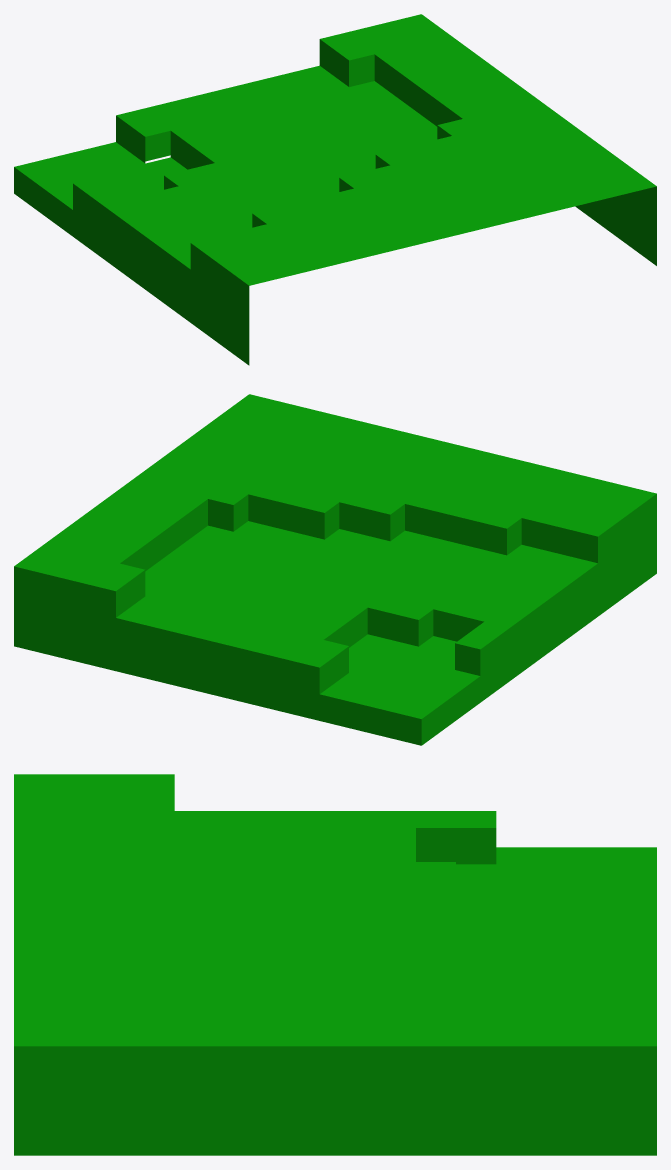
Rendered from Corner20.fbx.
3 renders of one model, top to bottom at view 1: azimuth 30°, elevation 25°; view 2: azimuth 150°, elevation 25°; view 3: azimuth 270°, elevation 25°, orthographic. The views are drawn at different scales.
Visible parts, largest first — view 1: Matrix; view 2: Matrix; view 3: Matrix.
Boxes of the visible parts, bbox=[...] form: Matrix: bbox=[14, 14, 656, 365]; Matrix: bbox=[14, 394, 656, 745]; Matrix: bbox=[14, 774, 656, 1155].
Bounding box in the file's own units: 16 × 3 × 16.
Materials: 1 (1 with a texture image).
